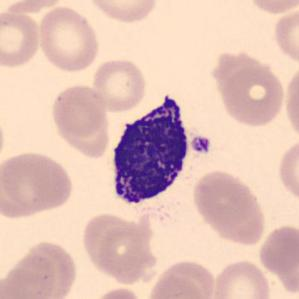Basophil: (105, 89, 194, 217)
Platelets: (189, 134, 212, 155)
RBC: (80, 214, 157, 285), (0, 149, 76, 219), (216, 63, 286, 129), (37, 4, 102, 74), (190, 168, 259, 229), (20, 238, 80, 299), (48, 81, 110, 140), (90, 56, 148, 114), (146, 258, 218, 299), (1, 251, 60, 299), (210, 258, 274, 299), (0, 10, 43, 70), (257, 223, 298, 276), (85, 0, 160, 25), (271, 5, 298, 66), (276, 135, 298, 206), (261, 0, 299, 41), (282, 62, 299, 142), (1, 0, 67, 14), (244, 0, 299, 15), (90, 285, 144, 299), (0, 110, 7, 168)
